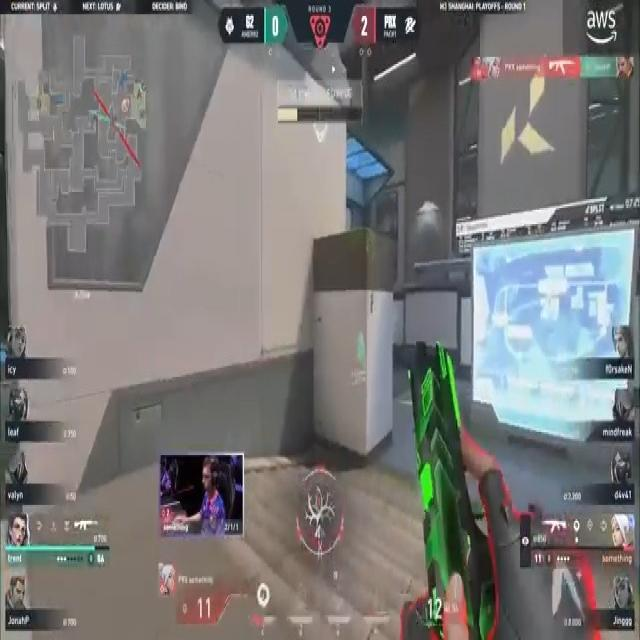ally behind wall: (355, 329, 369, 371)
